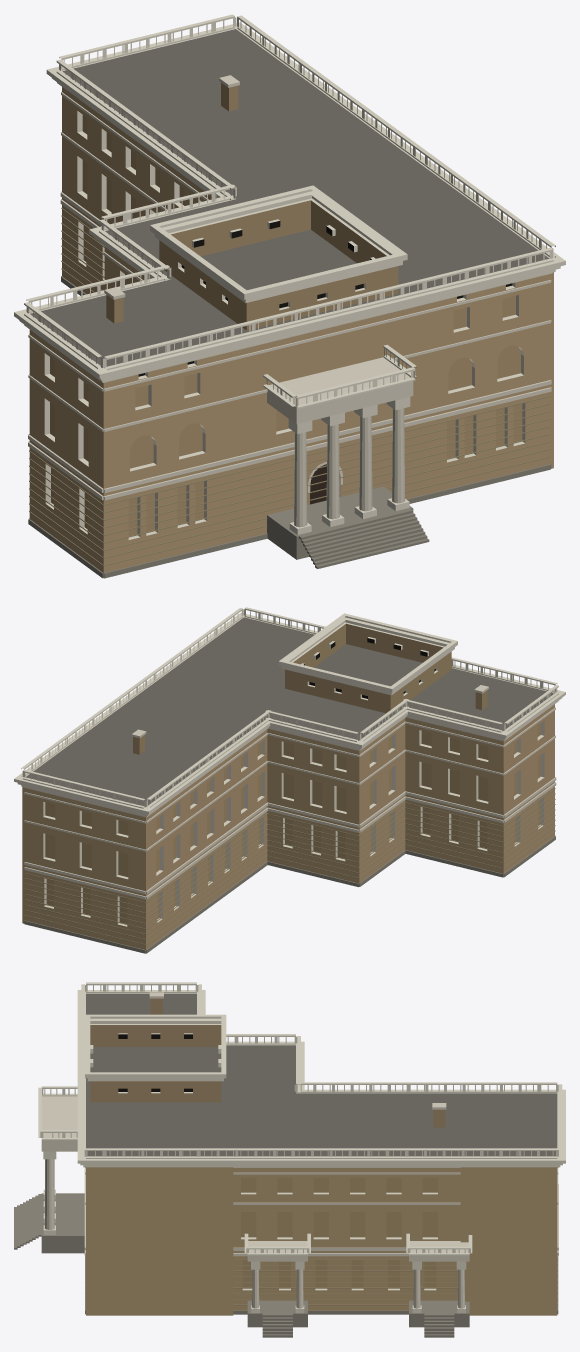
Rendered from little-rock-city-hall-1961.glb.
The picture shows the model from 3 angles, top to bottom: view 1: azimuth 30°, elevation 25°; view 2: azimuth 150°, elevation 25°; view 3: azimuth 270°, elevation 25°; orthographic projection. The views are drawn at different scales.
Visible parts, largest first — view 1: little_brick, little_roof, little_trim, little_stone, little_brick2, little_infill, little_joint, little_granite, little_base; view 2: little_brick, little_roof, little_trim, little_stone, little_infill, little_joint, little_brick2, little_granite; view 3: little_brick, little_roof, little_trim, little_stone, little_brick2, little_infill, little_granite, little_base, little_joint.
Part boxes in pixels (bbox=[...]): little_brick: bbox=[29, 87, 553, 572]; little_roof: bbox=[30, 29, 548, 367]; little_trim: bbox=[14, 14, 565, 539]; little_stone: bbox=[28, 75, 552, 527]; little_brick2: bbox=[106, 82, 398, 330]; little_infill: bbox=[50, 115, 522, 536]; little_joint: bbox=[29, 208, 550, 566]; little_granite: bbox=[28, 276, 551, 578]; little_base: bbox=[299, 509, 429, 568]; little_brick: bbox=[22, 704, 554, 949]; little_roof: bbox=[26, 617, 554, 806]; little_trim: bbox=[14, 607, 565, 926]; little_stone: bbox=[23, 685, 556, 899]; little_infill: bbox=[45, 723, 540, 923]; little_joint: bbox=[24, 788, 555, 944]; little_brick2: bbox=[133, 623, 487, 754]; little_granite: bbox=[24, 835, 555, 953]; little_brick: bbox=[86, 1167, 557, 1315]; little_roof: bbox=[86, 993, 557, 1156]; little_trim: bbox=[38, 982, 565, 1313]; little_stone: bbox=[41, 992, 558, 1308]; little_brick2: bbox=[90, 998, 445, 1127]; little_infill: bbox=[241, 1178, 437, 1288]; little_granite: bbox=[41, 1193, 558, 1327]; little_base: bbox=[14, 1194, 454, 1337]; little_joint: bbox=[85, 1255, 557, 1305].
Size of the model in its own units: 44.4 by 20.6 by 54.7.
